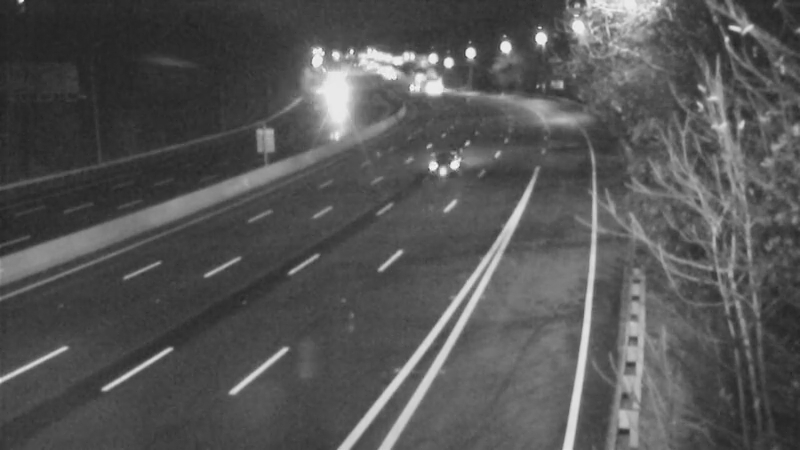vehicle: (405, 121, 485, 201), (390, 61, 440, 111), (404, 61, 454, 111), (306, 69, 356, 119)
